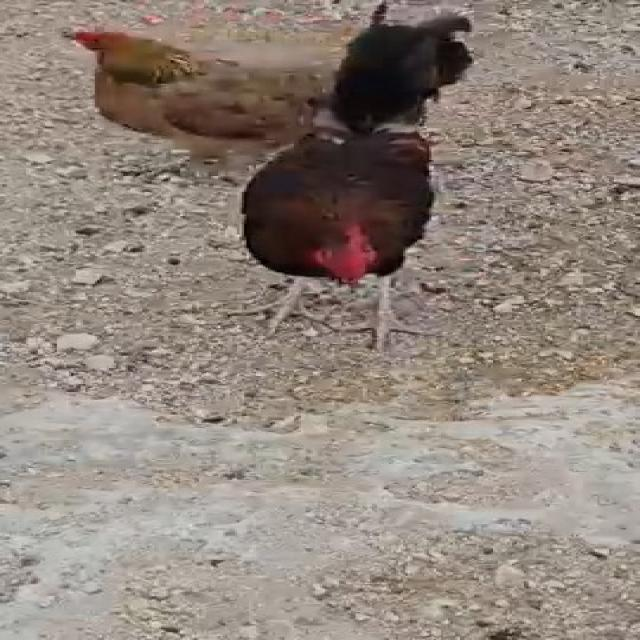menacing: (237, 0, 508, 343)
